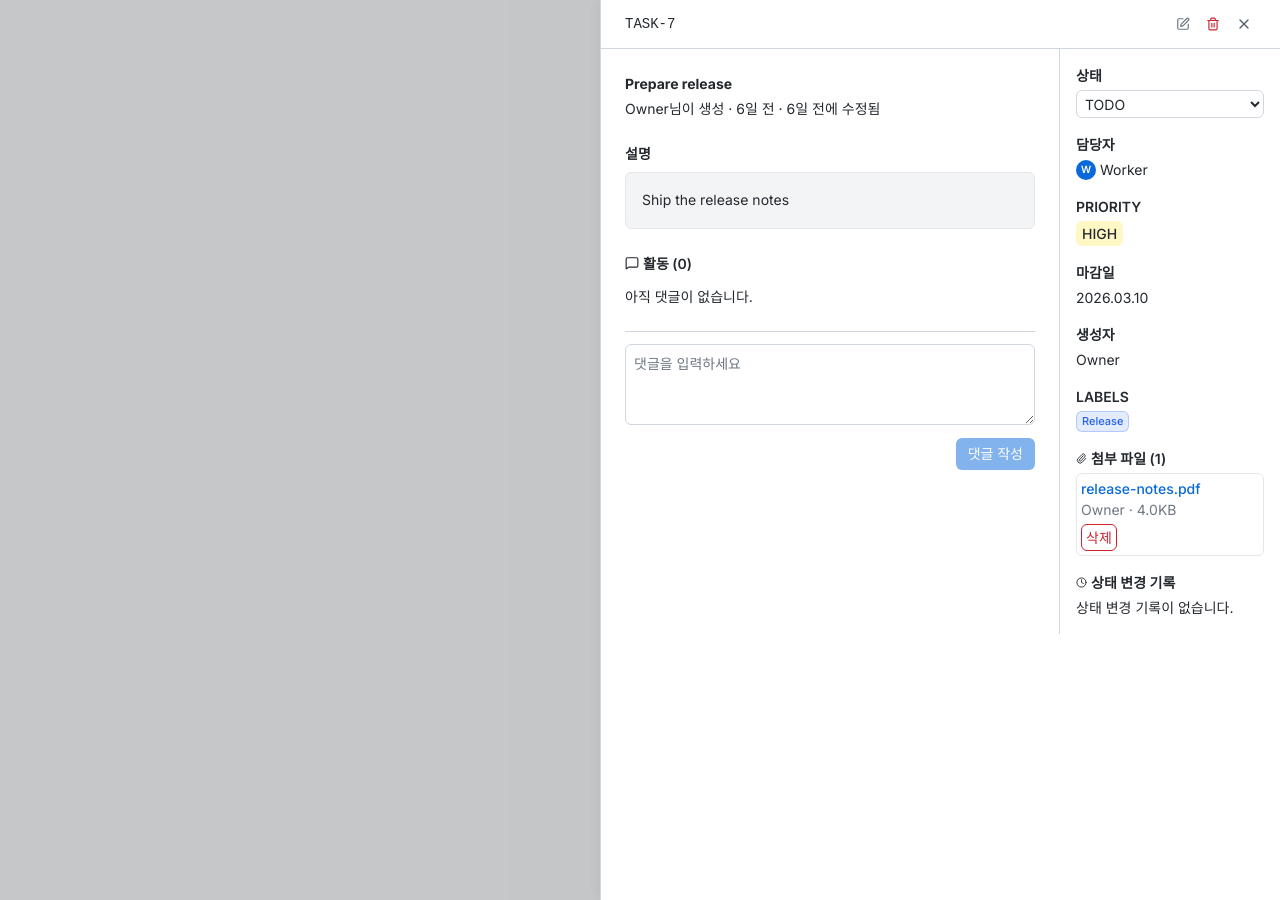
Scenario: TaskDetailDrawer › deletes an owned attachment and removes it from the list
Expected: the text "release-notes.pdf" is shown, left=1081, top=480, right=1201, bottom=496
Click the button with aria-label "Delete attachment release-notes.pdf": (1099, 537) left=1081, top=524, right=1117, bottom=550
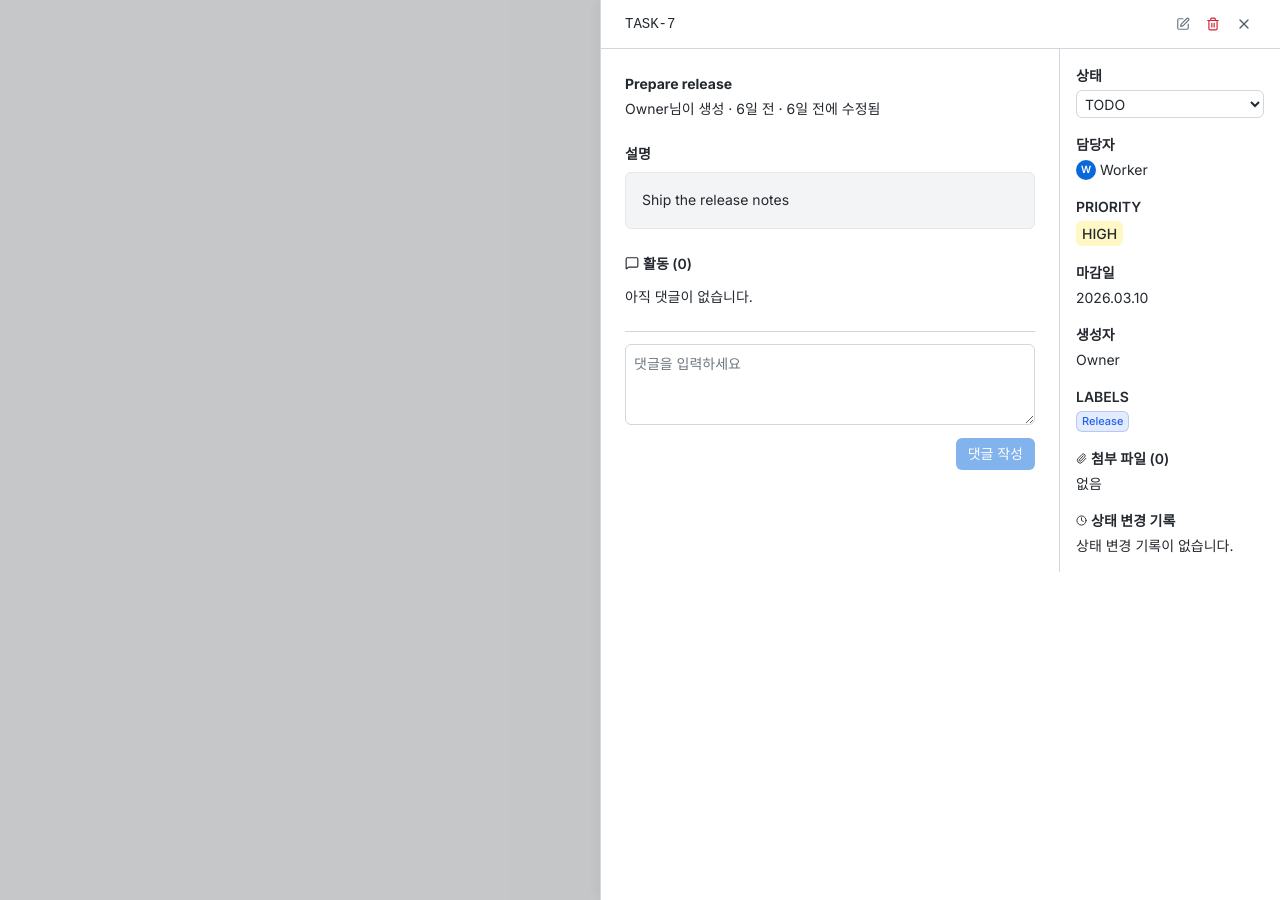
Result: the text "release-notes.pdf" is gone
